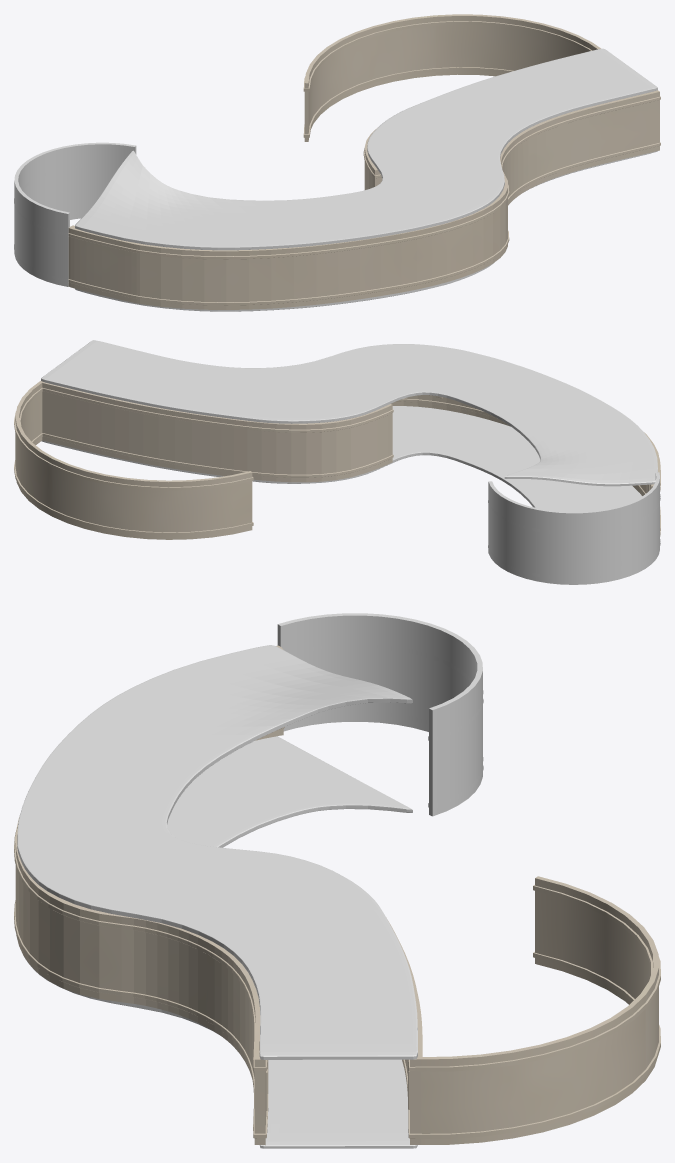
The model's file is gang.fbx.
3 renders of one model, top to bottom at view 1: azimuth 30°, elevation 25°; view 2: azimuth 150°, elevation 25°; view 3: azimuth 270°, elevation 25°, orthographic. The views are drawn at different scales.
Visible parts, largest first — view 1: Plane.048, BezierCurve.007, Wall.006, Wall, Plane.049, Wall.011, Wall.right.001; view 2: Plane.048, Wall.right.001, Wall.006, Wall, Plane.049, BezierCurve.007, Wall.011; view 3: Plane.048, Wall.006, Plane.049, BezierCurve.007, Wall, Wall.011, Wall.right.001.
Part boxes in pixels (left/top/right/bottom): Plane.048: left=75, top=48, right=657, bottom=250; BezierCurve.007: left=68, top=90, right=660, bottom=309; Wall.006: left=303, top=14, right=600, bottom=141; Wall: left=14, top=142, right=136, bottom=286; Plane.049: left=75, top=151, right=657, bottom=311; Wall.011: left=14, top=163, right=120, bottom=281; Wall.right.001: left=363, top=127, right=382, bottom=189; Plane.048: left=41, top=340, right=657, bottom=486; Wall.right.001: left=42, top=382, right=393, bottom=482; Wall.006: left=14, top=381, right=253, bottom=539; Wall: left=488, top=472, right=659, bottom=584; Plane.049: left=41, top=406, right=642, bottom=511; BezierCurve.007: left=391, top=395, right=660, bottom=536; Wall.011: left=488, top=494, right=660, bottom=579; Plane.048: left=17, top=645, right=417, bottom=1059; Wall.006: left=415, top=876, right=660, bottom=1144; Plane.049: left=24, top=736, right=417, bottom=1148; BezierCurve.007: left=14, top=645, right=284, bottom=1145; Wall: left=277, top=613, right=482, bottom=816; Wall.011: left=288, top=643, right=483, bottom=809; Wall.right.001: left=386, top=917, right=422, bottom=1144.
Bounding box in the file's own units: 2723 × 340 × 1746.
